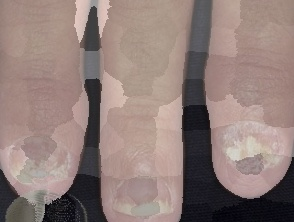Nail_psoriasis: (208, 105, 294, 190), (5, 133, 74, 192), (108, 190, 177, 222)
